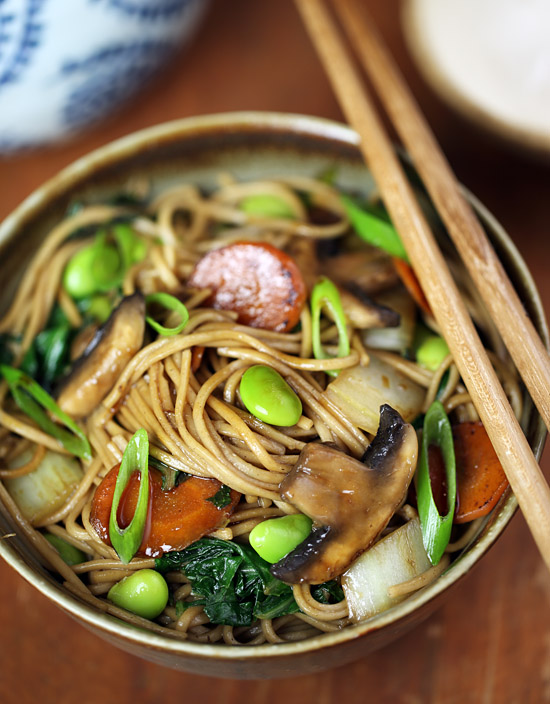Soba: (10, 184, 446, 609)
